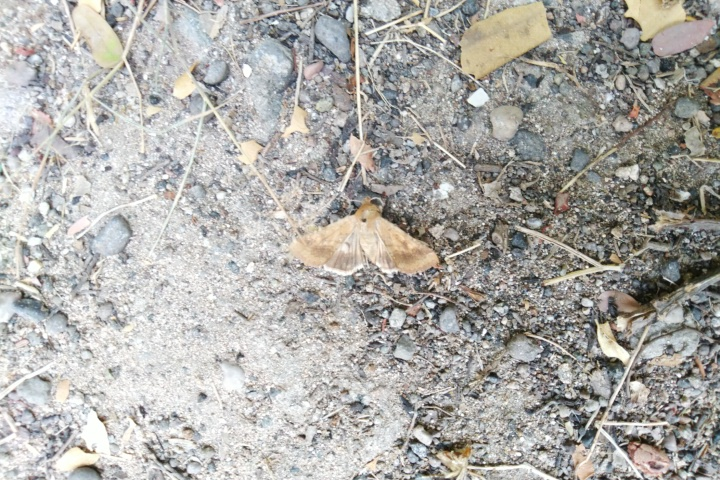INS-C: (288, 195, 447, 283)
